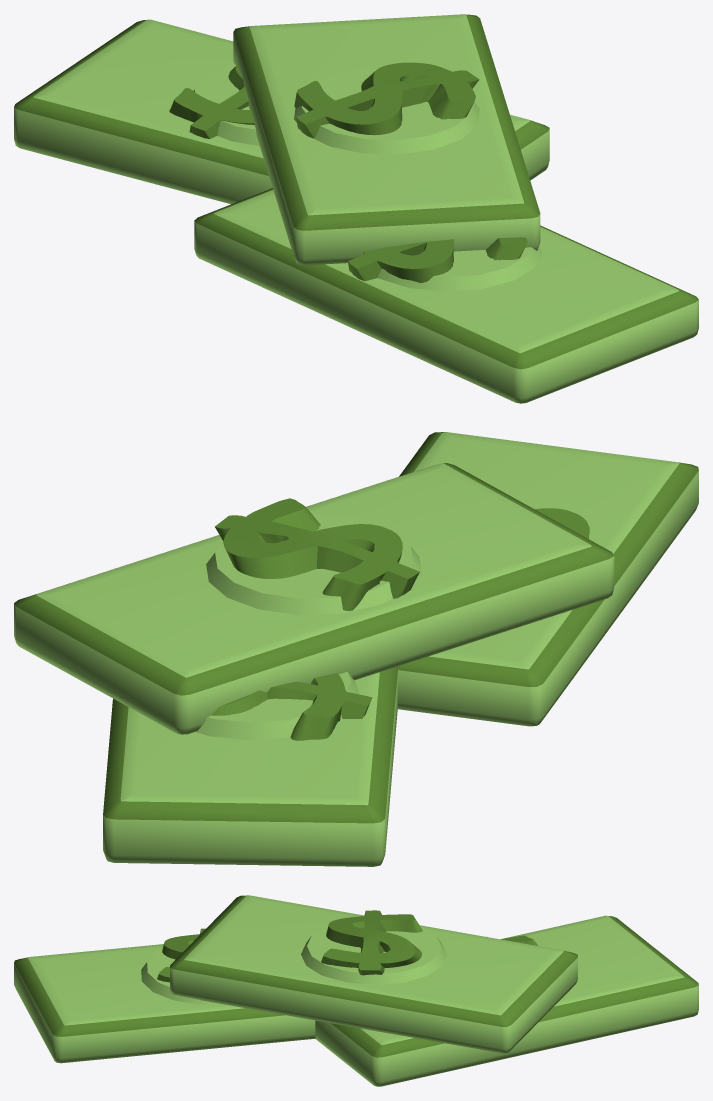
File: bundle of money_Dirt.fbx
The picture shows the model from 3 angles, top to bottom: view 1: azimuth 30°, elevation 25°; view 2: azimuth 150°, elevation 25°; view 3: azimuth 270°, elevation 25°; orthographic projection. The views are drawn at different scales.
Parts seen in each view (by area): view 1: bundle of money.001; view 2: bundle of money.001; view 3: bundle of money.001.
Part boxes in pixels (left/top/right/bottom): bundle of money.001: left=14, top=14, right=698, bottom=403; bundle of money.001: left=14, top=432, right=698, bottom=866; bundle of money.001: left=14, top=895, right=698, bottom=1086.
Size of the model in its own units: 63.63 by 19.09 by 126.
